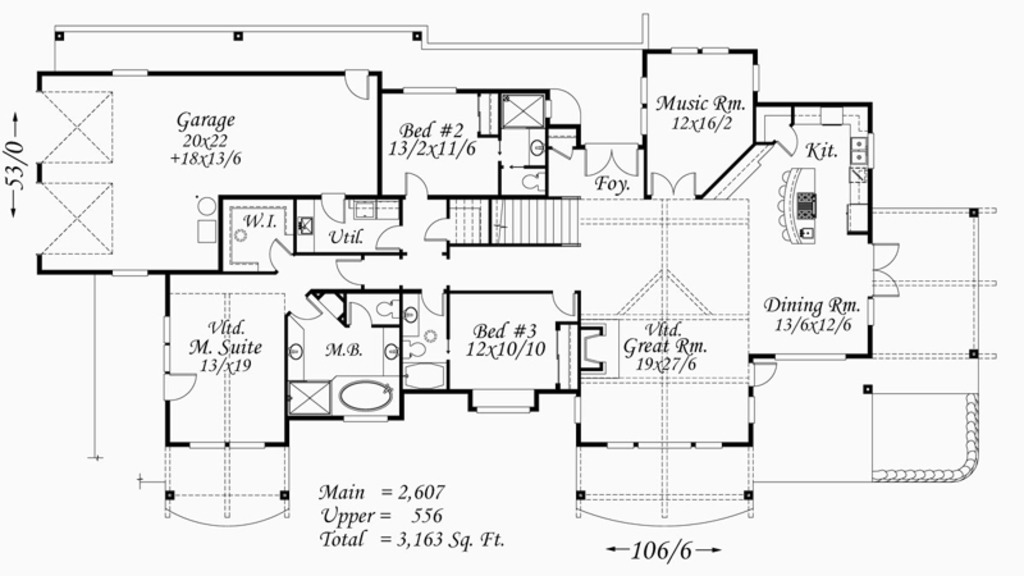coffee_table: (288, 383, 334, 415)
door: (867, 239, 910, 298), (584, 143, 640, 177), (599, 439, 723, 453), (648, 172, 701, 199), (162, 366, 197, 404), (340, 69, 377, 103), (264, 232, 295, 272), (285, 296, 324, 325), (344, 300, 376, 332), (420, 287, 449, 321), (372, 223, 404, 253), (747, 357, 779, 387), (552, 285, 580, 319), (319, 193, 348, 224), (772, 125, 799, 158), (401, 172, 431, 201), (335, 253, 363, 284), (419, 217, 450, 242)
kitchen_bar: (778, 162, 819, 248)
large_sink: (516, 168, 546, 194), (397, 338, 425, 360), (377, 297, 402, 320)
small_sink: (287, 327, 306, 380), (399, 287, 420, 334), (528, 127, 547, 166)
stairs: (446, 195, 586, 249)
tub: (330, 375, 398, 416), (397, 360, 450, 389)
twin_sink: (850, 133, 869, 166)
windows: (598, 438, 725, 449), (186, 437, 266, 453), (776, 350, 846, 364), (667, 45, 733, 58), (638, 73, 651, 136), (473, 404, 531, 417), (106, 266, 151, 281)
